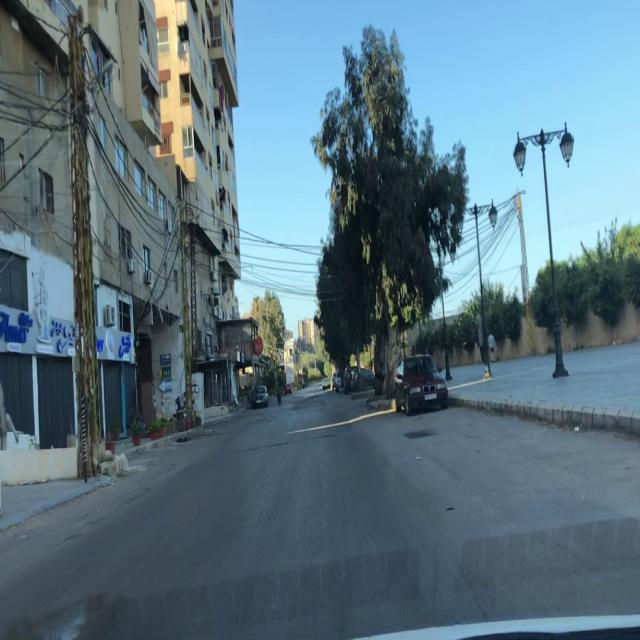Pothole: (266, 440, 288, 449), (321, 432, 337, 440)
